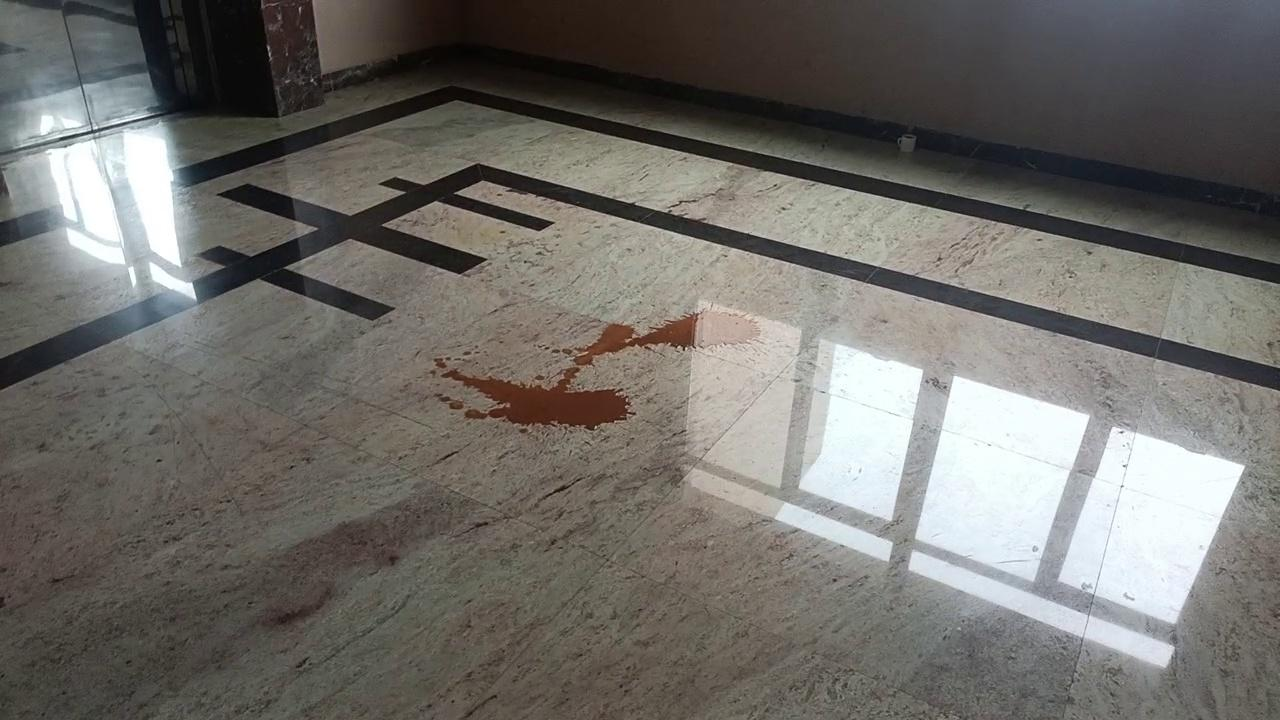dirty_floor: (432, 306, 765, 440)
